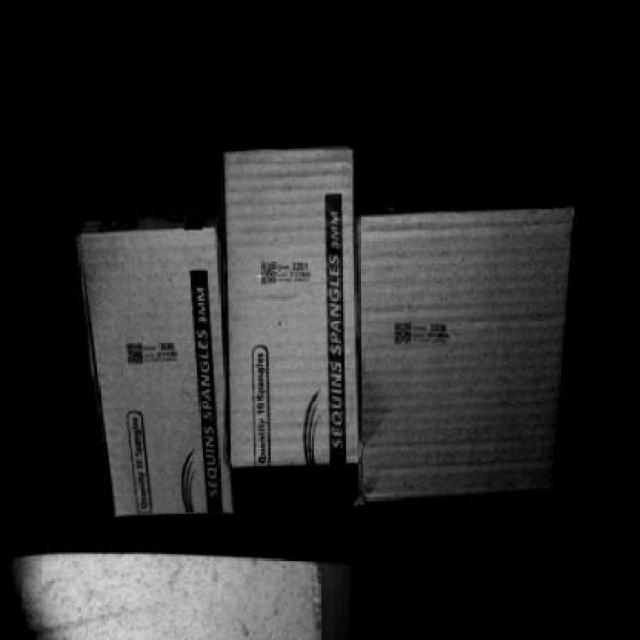cardboxes: (363, 218, 568, 492), (81, 229, 234, 514), (228, 152, 361, 463)
